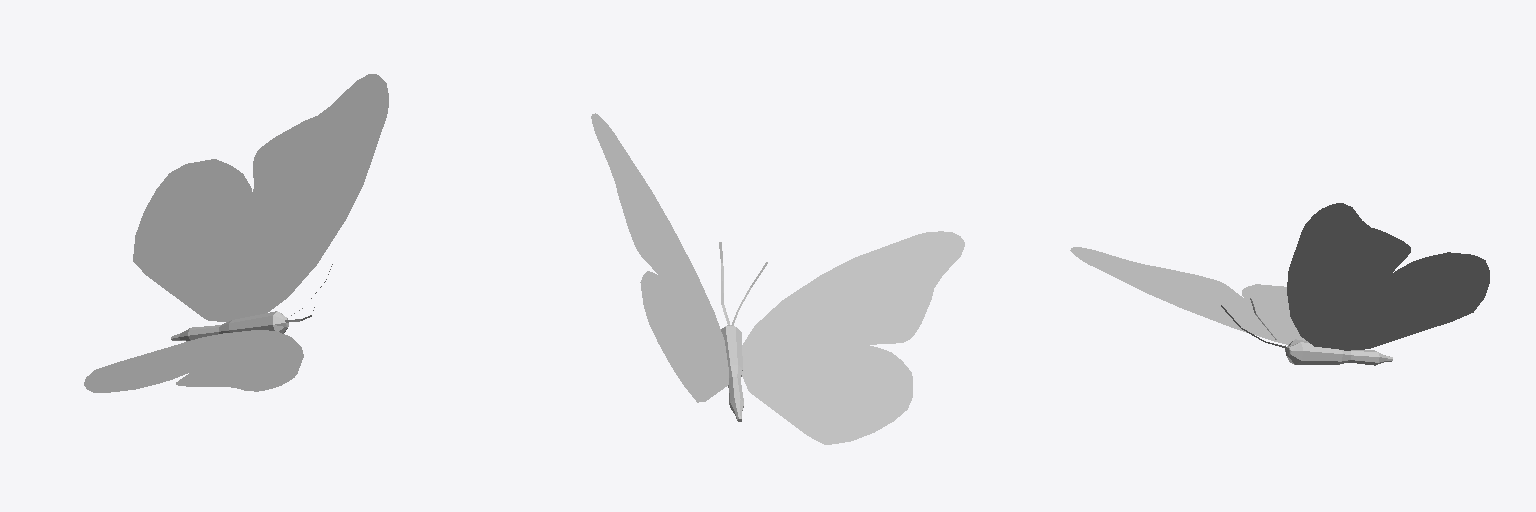
File: butterfly_2.obj
3 views of the same model, side by side, from view 1: azimuth 30°, elevation 25°; view 2: azimuth 150°, elevation 25°; view 3: azimuth 270°, elevation 25° (orthographic).
Parts seen in each view (by area): view 1: Butterfly.004; view 2: Butterfly.004; view 3: Butterfly.004.
Boxes of the visible parts, x1=… form: Butterfly.004: x1=84, y1=74, x2=388, y2=392; Butterfly.004: x1=591, y1=113, x2=964, y2=444; Butterfly.004: x1=1070, y1=203, x2=1489, y2=365.
Bounding box in the file's own units: 1.82 × 1.44 × 2.18.